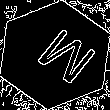M_SW: (19, 21, 91, 89)
